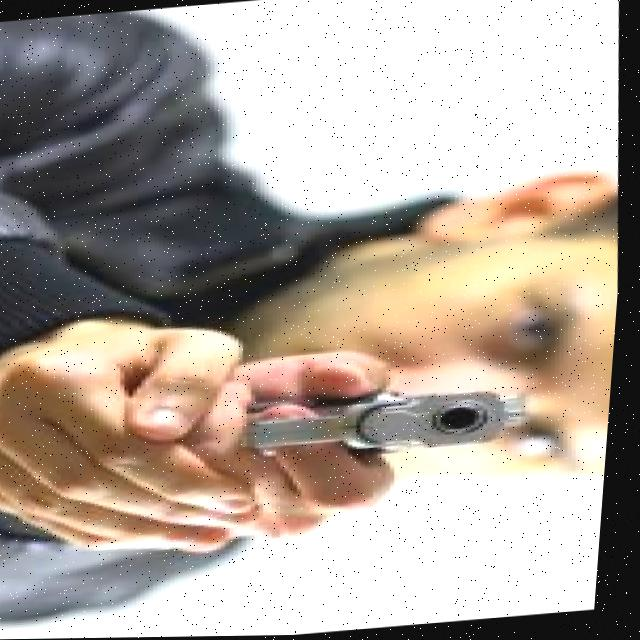pistol: (249, 386, 538, 463)
